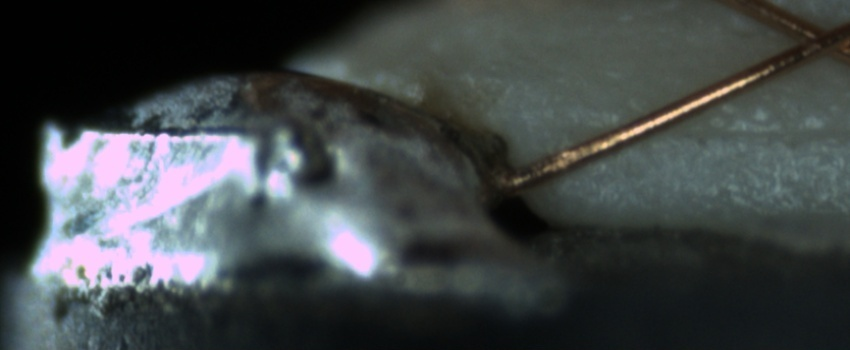CL: (774, 7, 850, 68)
DL: (566, 96, 850, 163)
